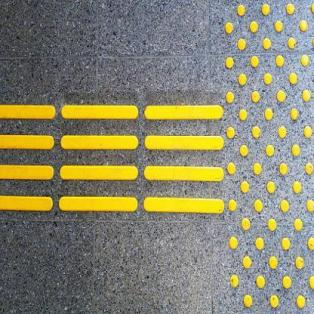Podoctatil: (1, 0, 314, 311)
